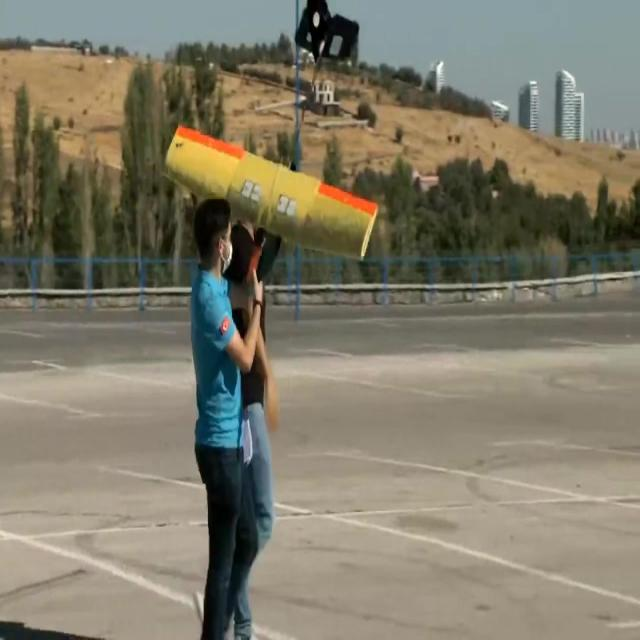iha: (158, 0, 379, 292)
